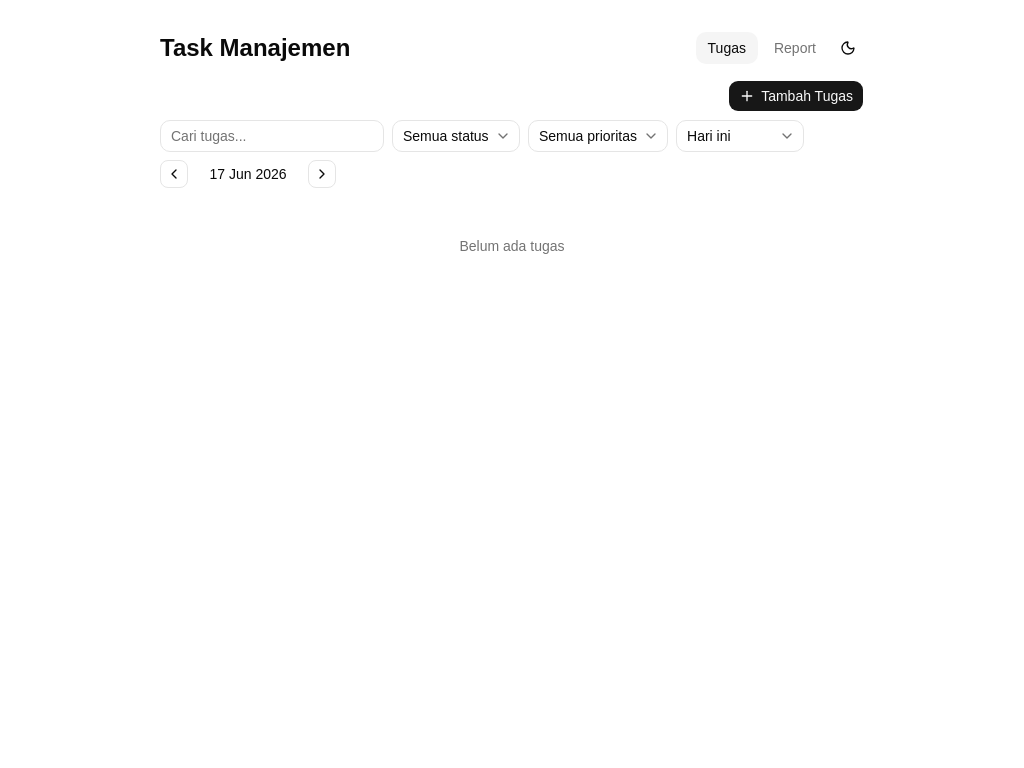
Scenario: HomePage › opens the create form from the add button
Click the button "Tambah Tugas" at [796, 96], box [728,80,864,112]
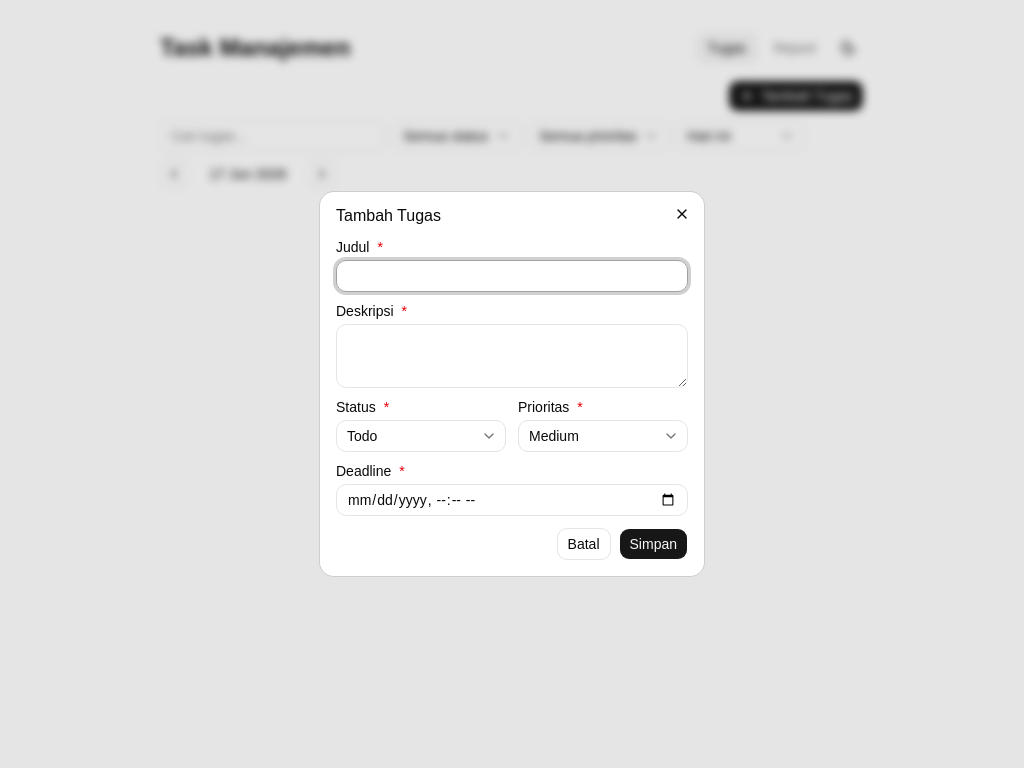
Now the dialog is shown, box [320,192,704,576]
